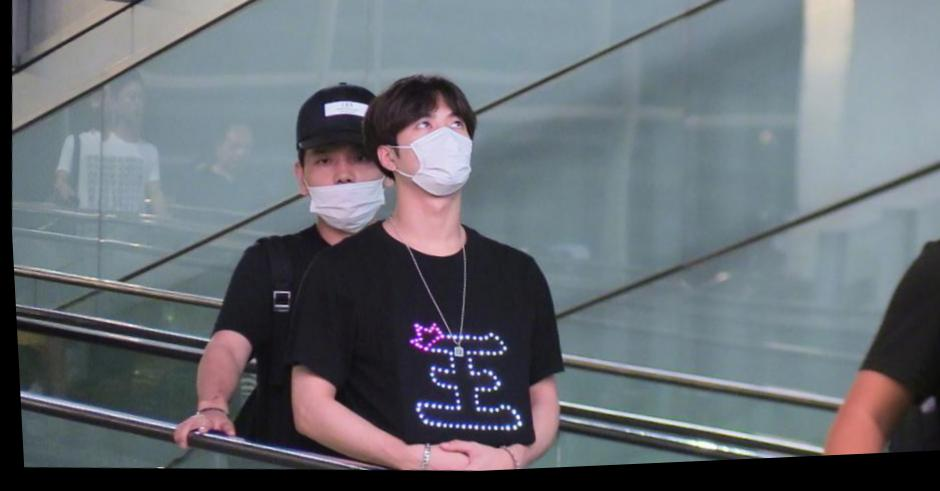OK: (382, 107, 480, 204)
WRONG: (298, 147, 387, 235)
